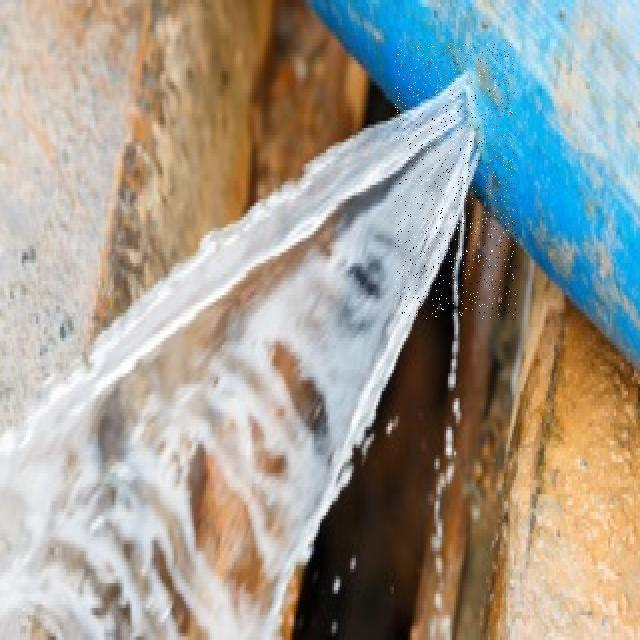pipe burst: (0, 60, 488, 640)
